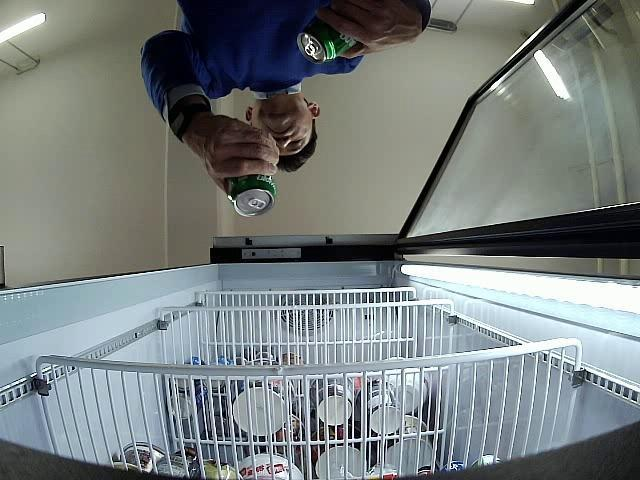12_chilsungCider: (296, 24, 358, 64), (223, 173, 276, 216)
